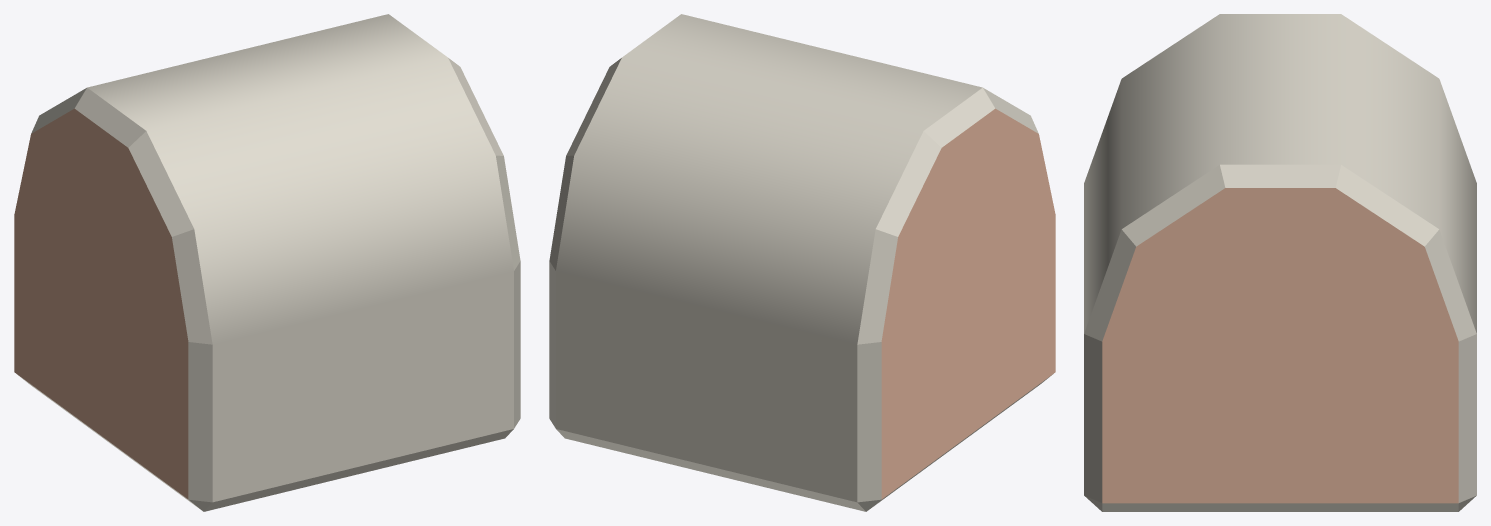
Rendered from R4B_RoundTop_LOD1.fbx.
3 renders of one model, left to right at view 1: azimuth 30°, elevation 25°; view 2: azimuth 150°, elevation 25°; view 3: azimuth 270°, elevation 25°, orthographic. The views are drawn at different scales.
Parts seen in each view (by area): view 1: R4B_RoundTop_LOD1; view 2: R4B_RoundTop_LOD1; view 3: R4B_RoundTop_LOD1.
Part boxes in pixels (<box>): R4B_RoundTop_LOD1: <box>14,14,520,511</box>; R4B_RoundTop_LOD1: <box>549,14,1055,511</box>; R4B_RoundTop_LOD1: <box>1084,14,1476,511</box>.
Bounding box in the file's own units: 0.52 × 0.5073 × 0.52.
